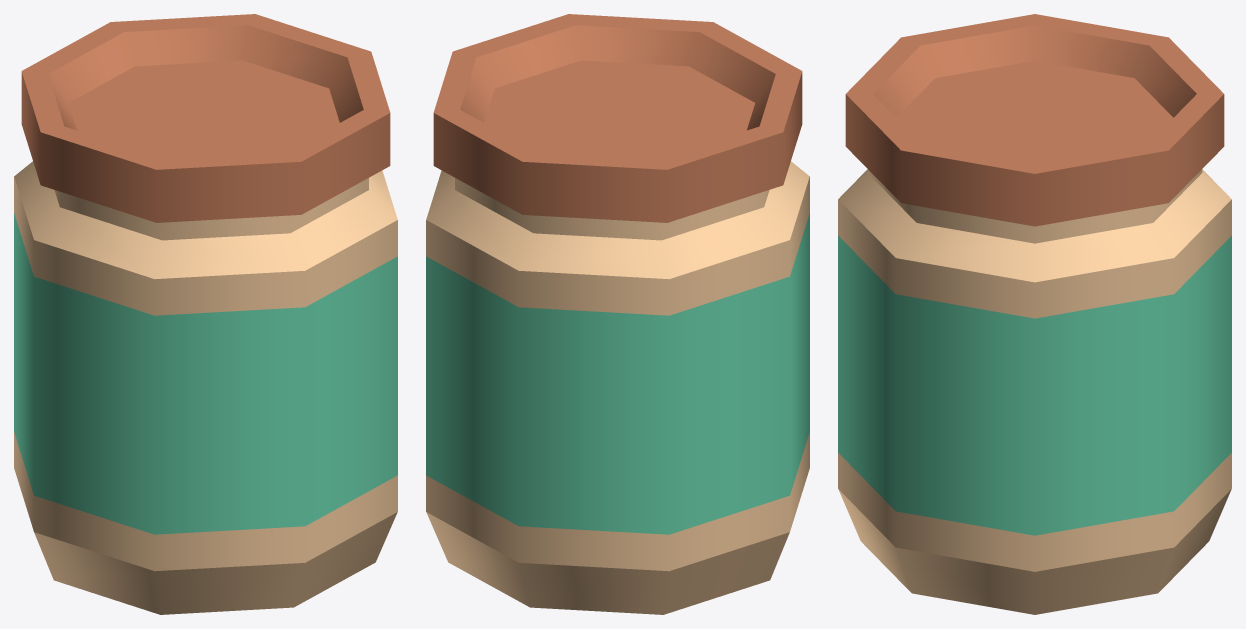
Rendered from Peanut_Butter.glb.
3 views of the same model, side by side, from view 1: azimuth 30°, elevation 25°; view 2: azimuth 150°, elevation 25°; view 3: azimuth 270°, elevation 25° (orthographic).
Visible parts, largest first — view 1: peanutButter; view 2: peanutButter; view 3: peanutButter.
Part boxes in pixels (x1,y1,x2,y2): peanutButter: (14,14,397,614); peanutButter: (426,14,809,614); peanutButter: (838,14,1231,614).
Size of the model in its own units: 0.2359 by 0.2958 by 0.2359.
